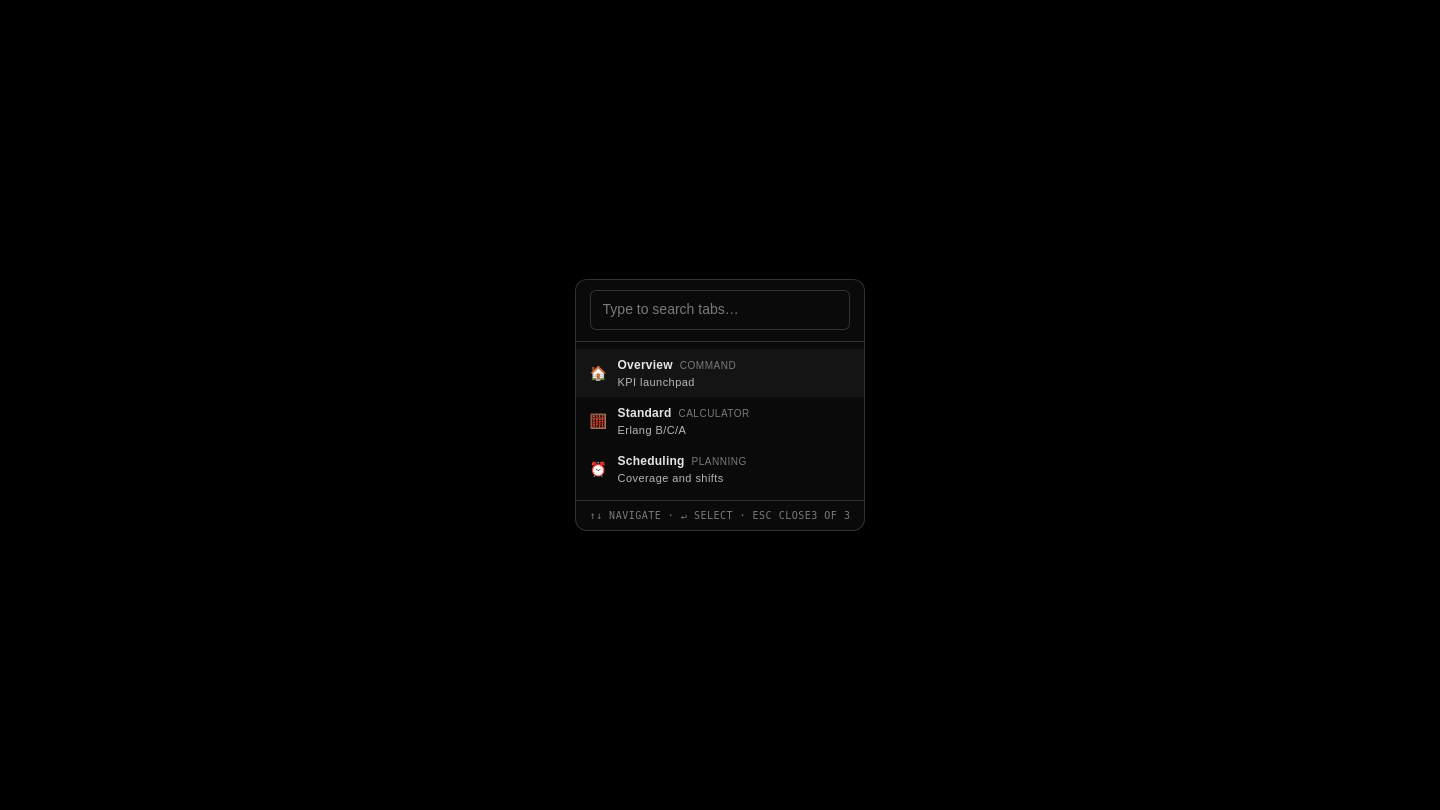
Test: CommandPalette › filters entries by query
This screenshot has width=1440, height=810.
Type "sched" into the field labelled "search tabs" at (720, 310), box left=590, top=290, right=850, bottom=330
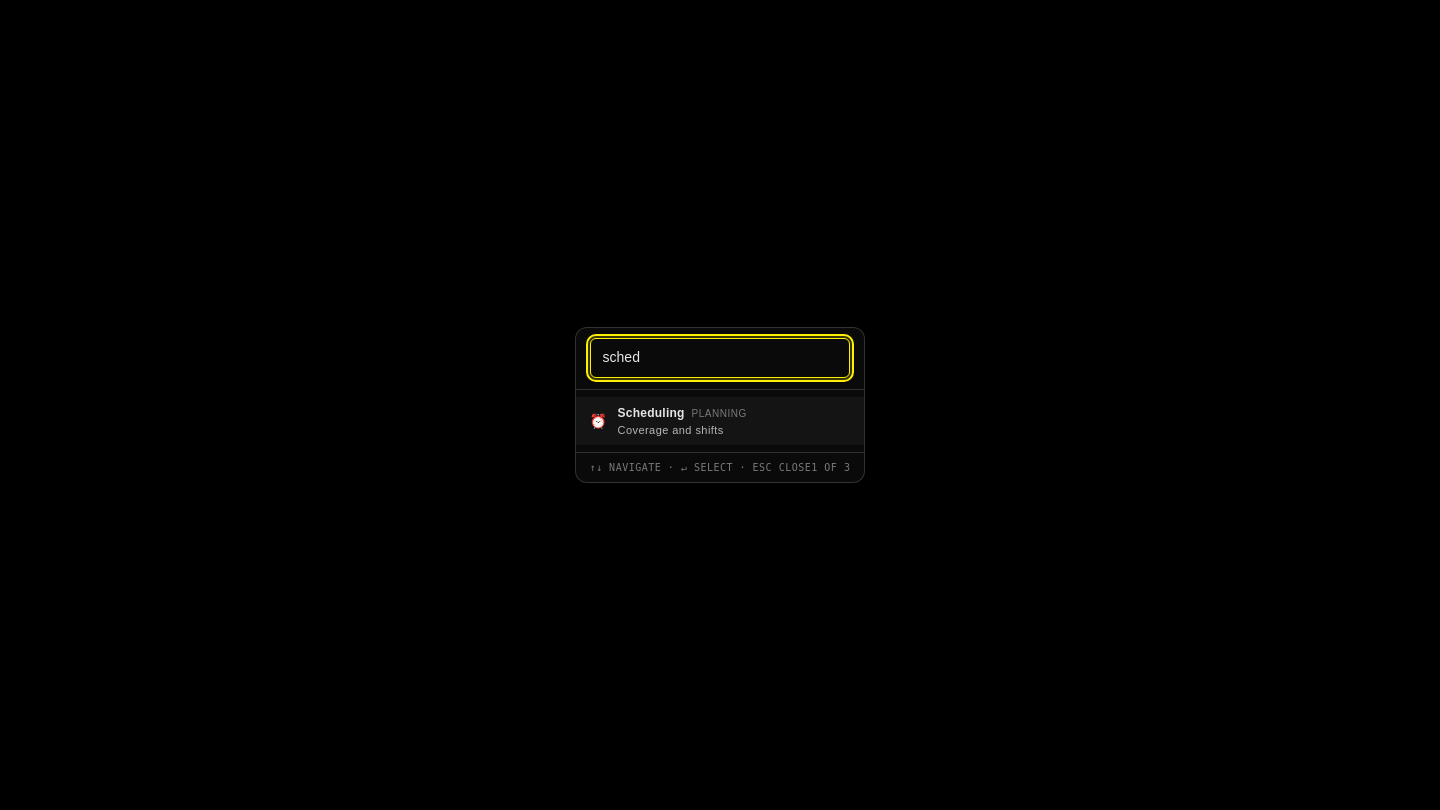
Expected: the text "Scheduling" is shown, left=618, top=404, right=685, bottom=422
Expected: the option "Overview" is gone
Expected: the option "Standard" is gone
